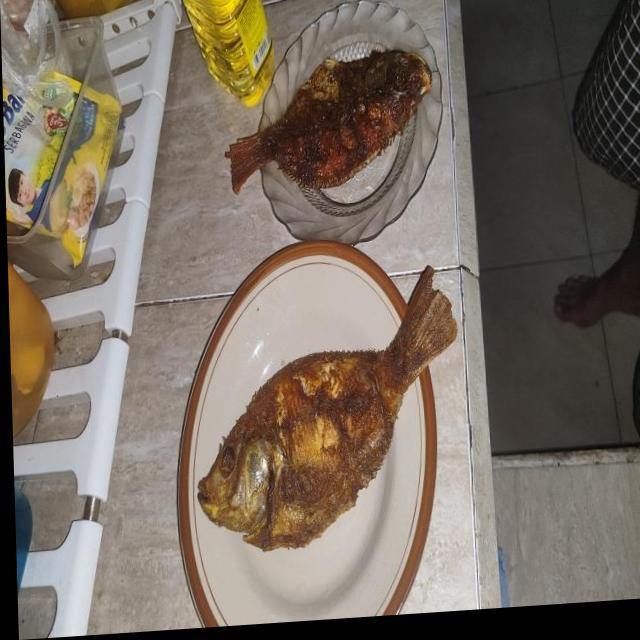ikan_mujair: (197, 266, 457, 552), (225, 52, 430, 194)
